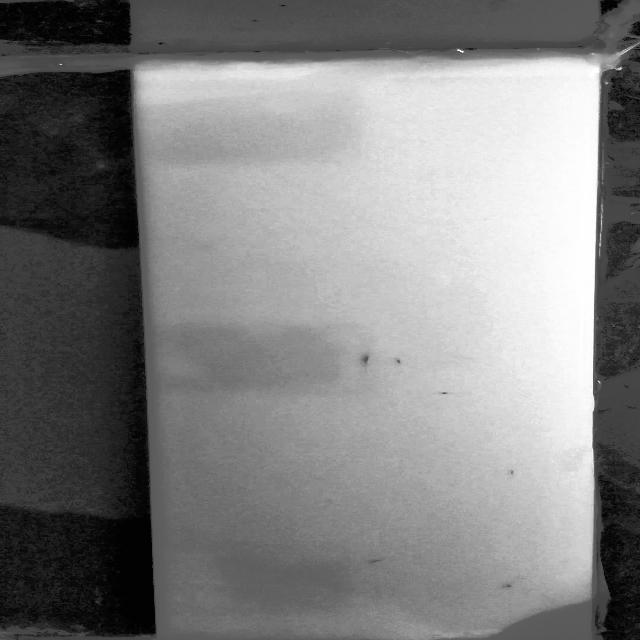shrimp: (361, 554, 397, 570), (421, 386, 458, 401), (349, 348, 371, 370), (496, 579, 519, 591)
